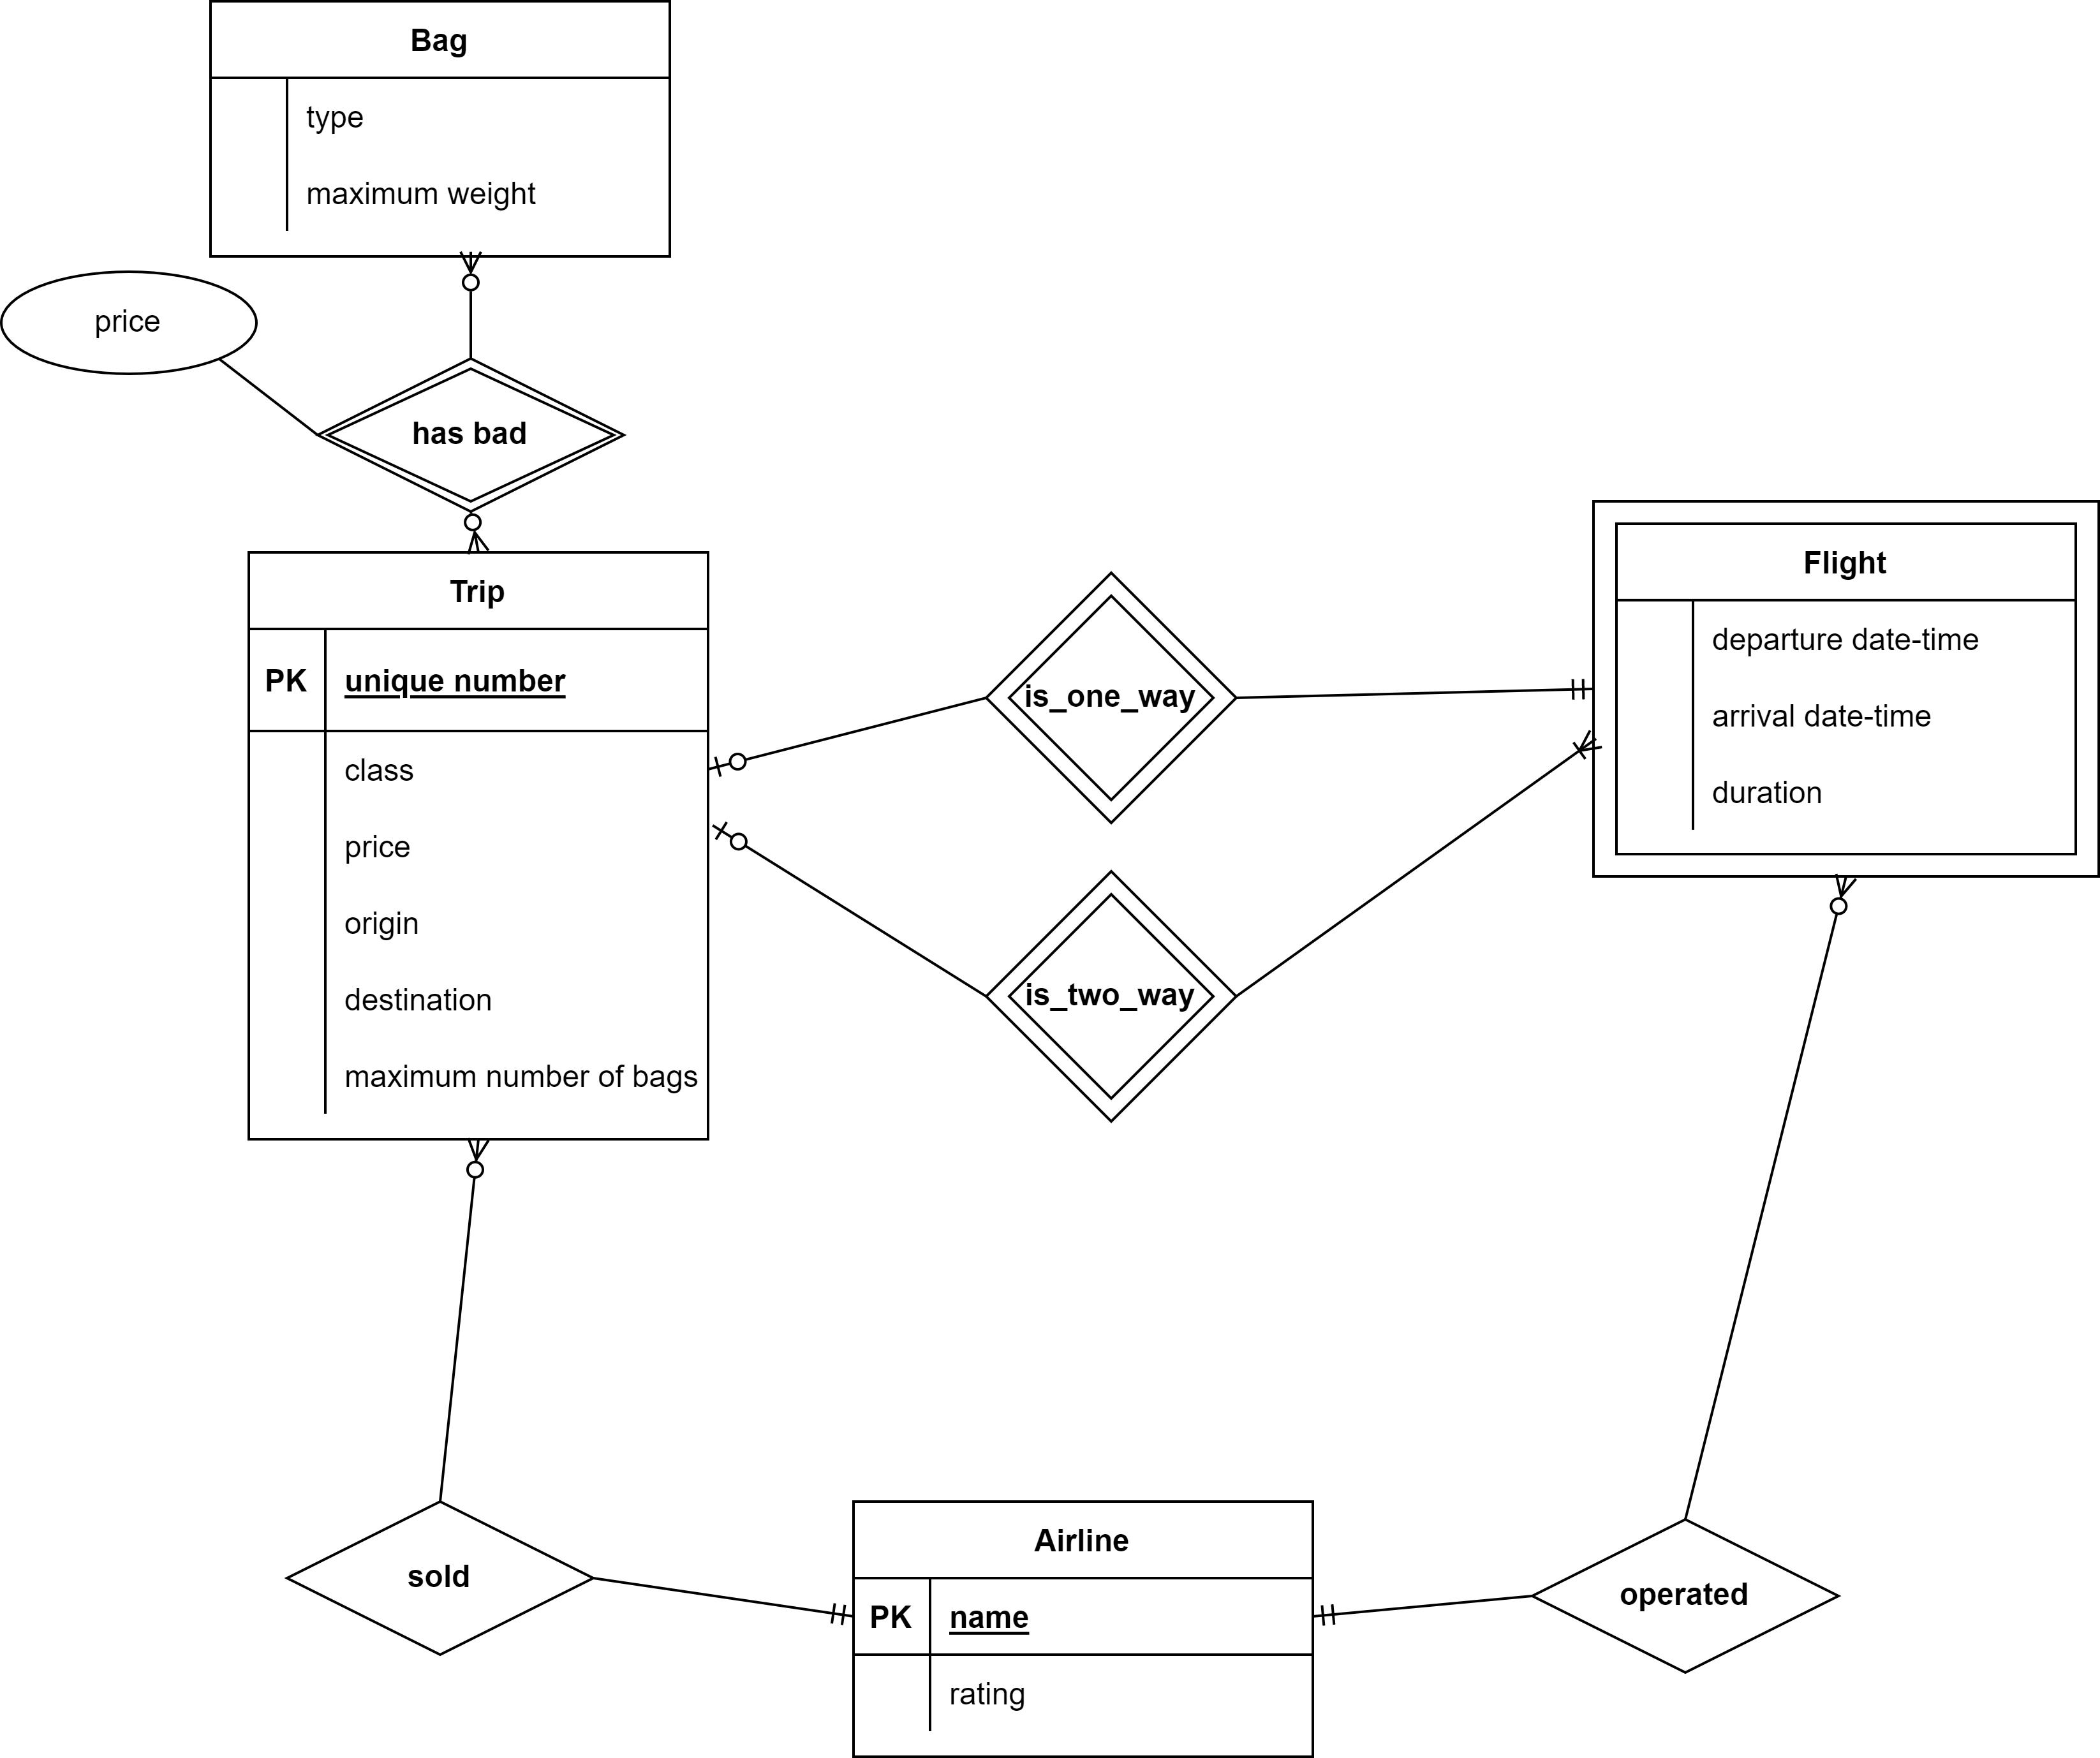attribute: (0, 274, 255, 375)
entity: (235, 544, 717, 1148), (204, 0, 677, 262), (846, 1498, 1315, 1758)
relationship: (1544, 1523, 1840, 1678), (295, 1505, 586, 1655)
weakentity: (1585, 494, 2100, 882)
weakrelationship: (985, 567, 1233, 821), (994, 870, 1238, 1125), (317, 356, 628, 509)
